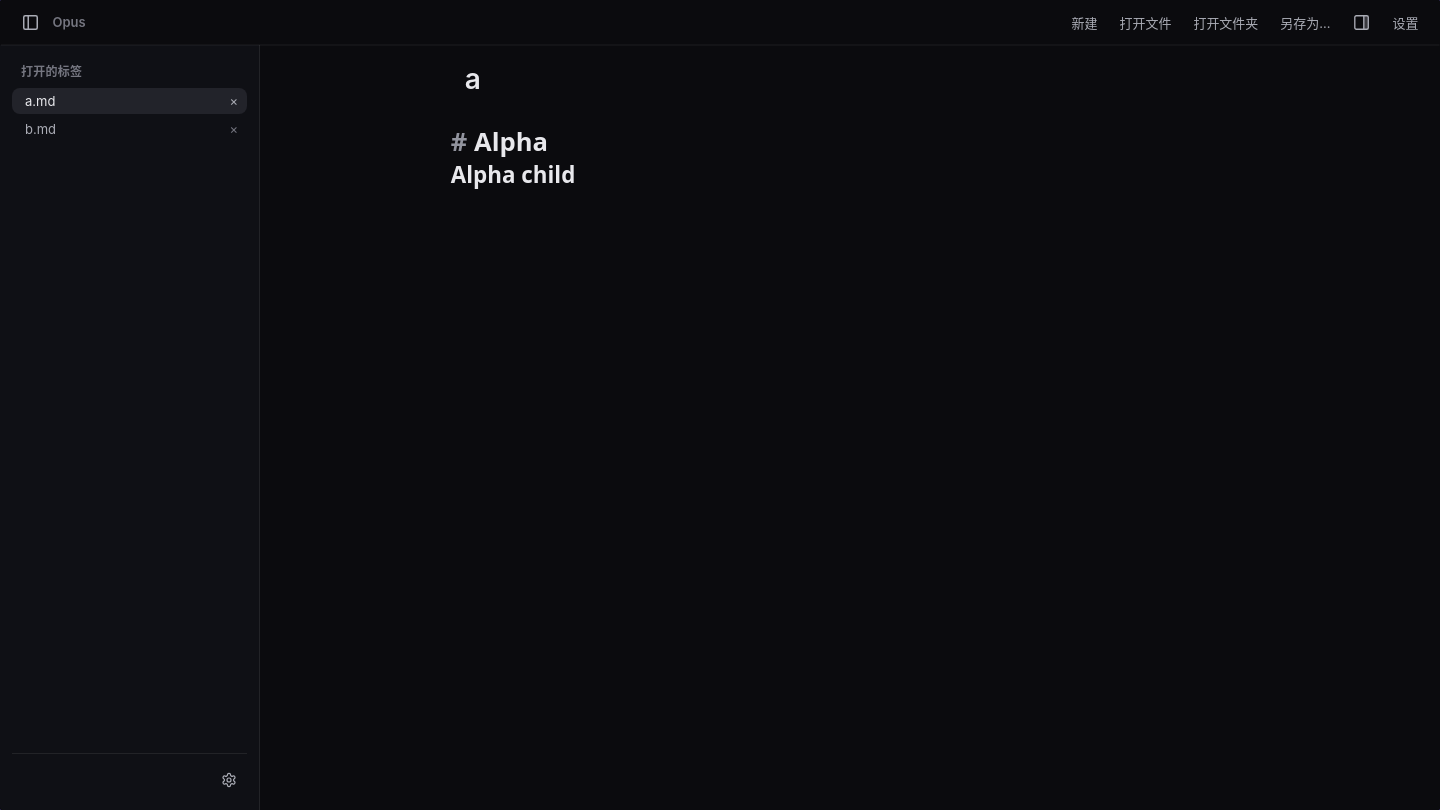
Test: AppShell › keeps the outline open and branch state independent across tabs
This screenshot has width=1440, height=810.
Click the button named "展开右侧栏": (1362, 22) [1344,4,1380,40]
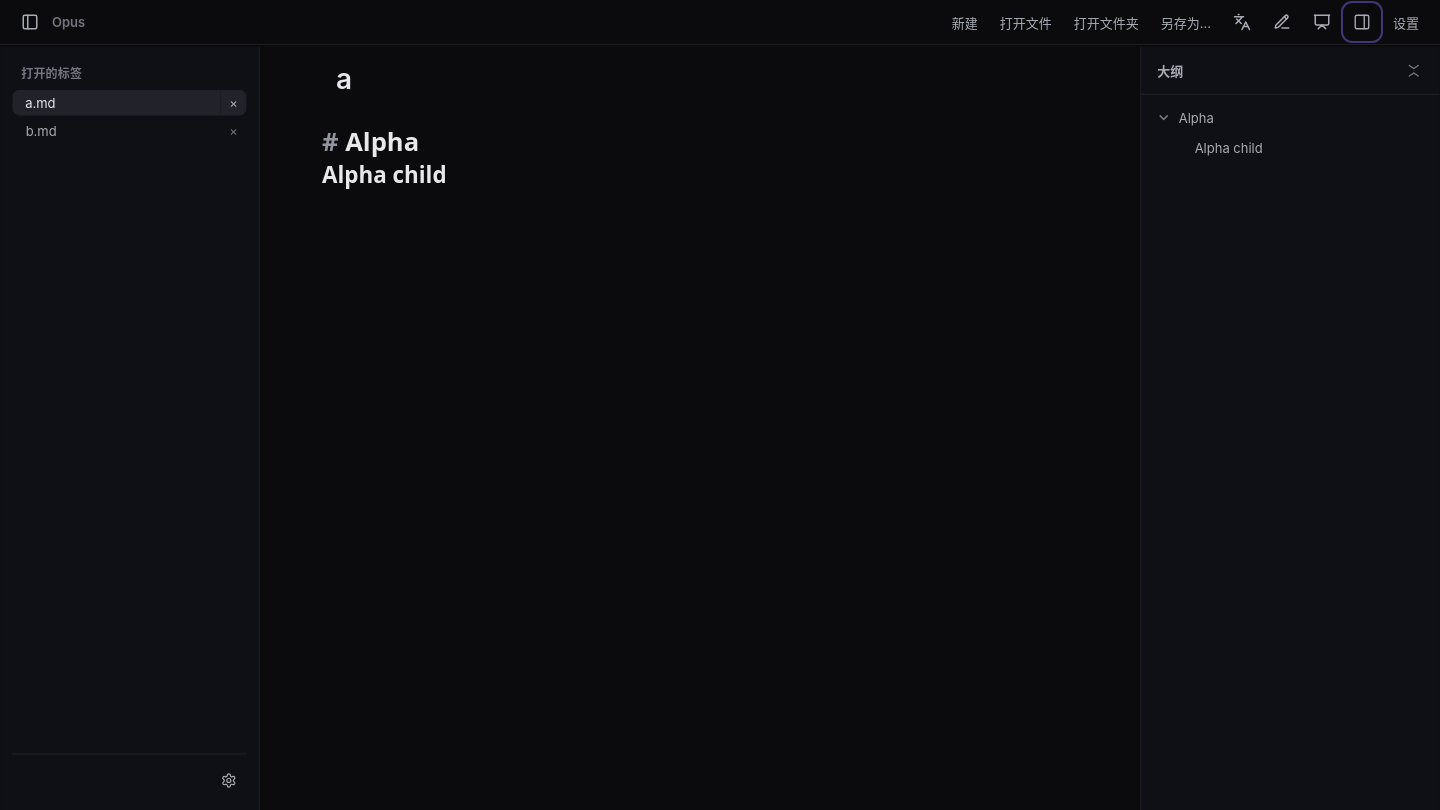
Result: the list item "Alpha child" is shown at [1194,133,1432,162]
Click the button named "收起 Alpha": (1164, 118) [1150,103,1178,133]
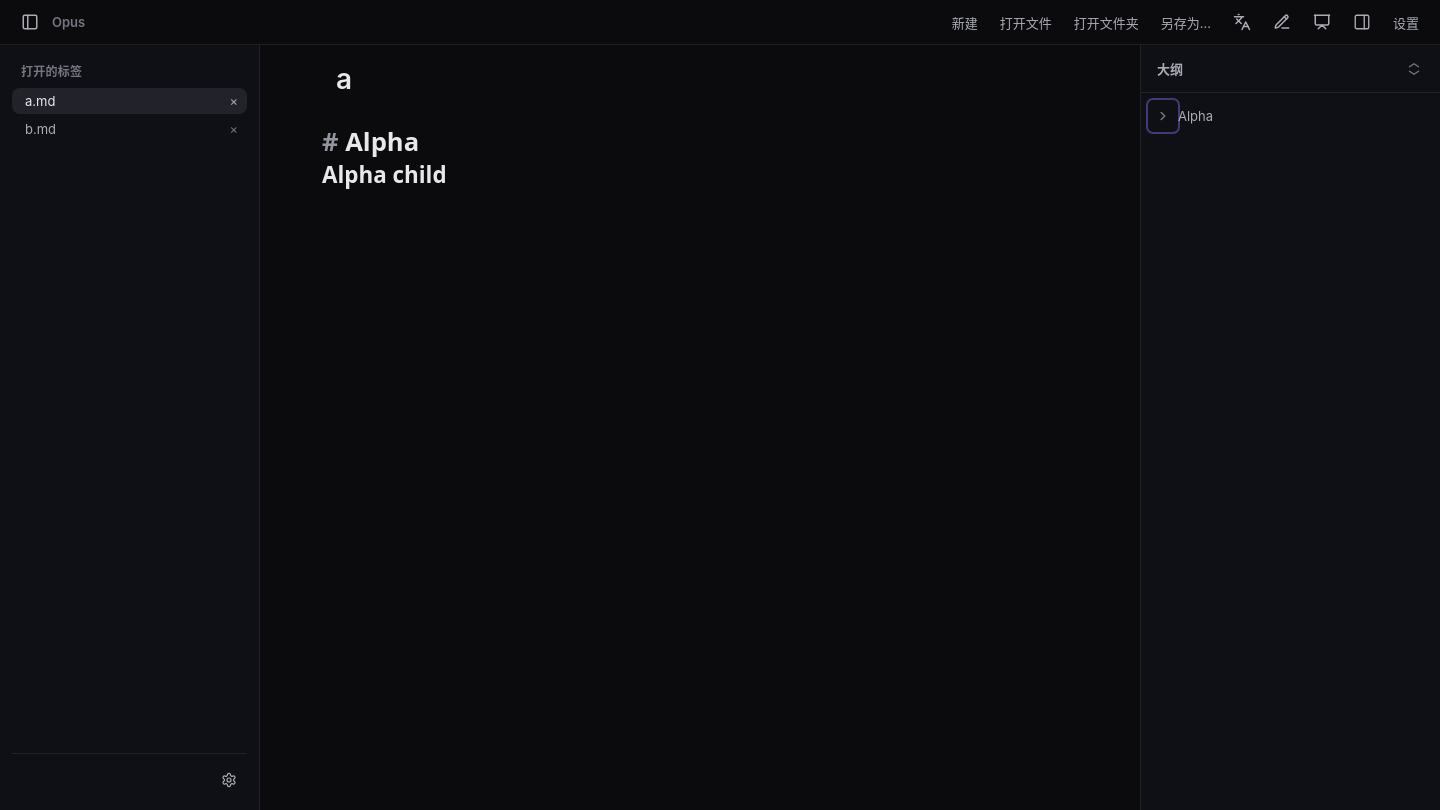
Click the tab "b.md": (117, 129) [12,116,221,142]
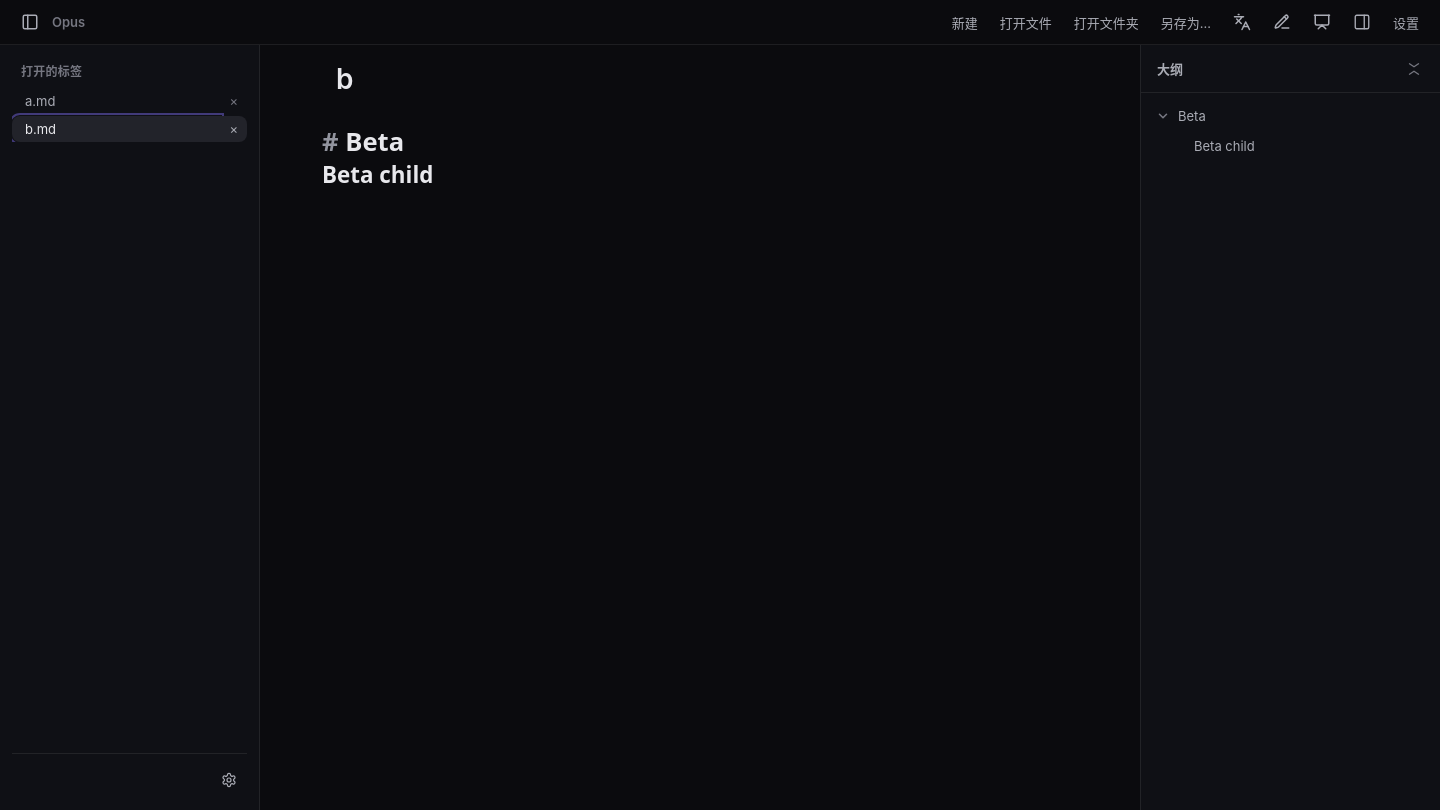
Result: the button named "收起右侧栏" is expanded at [1344,4,1380,40]
Result: the list item "Beta child" is shown at [1193,131,1432,161]
Click the tab "a.md": (117, 101) [12,88,221,114]
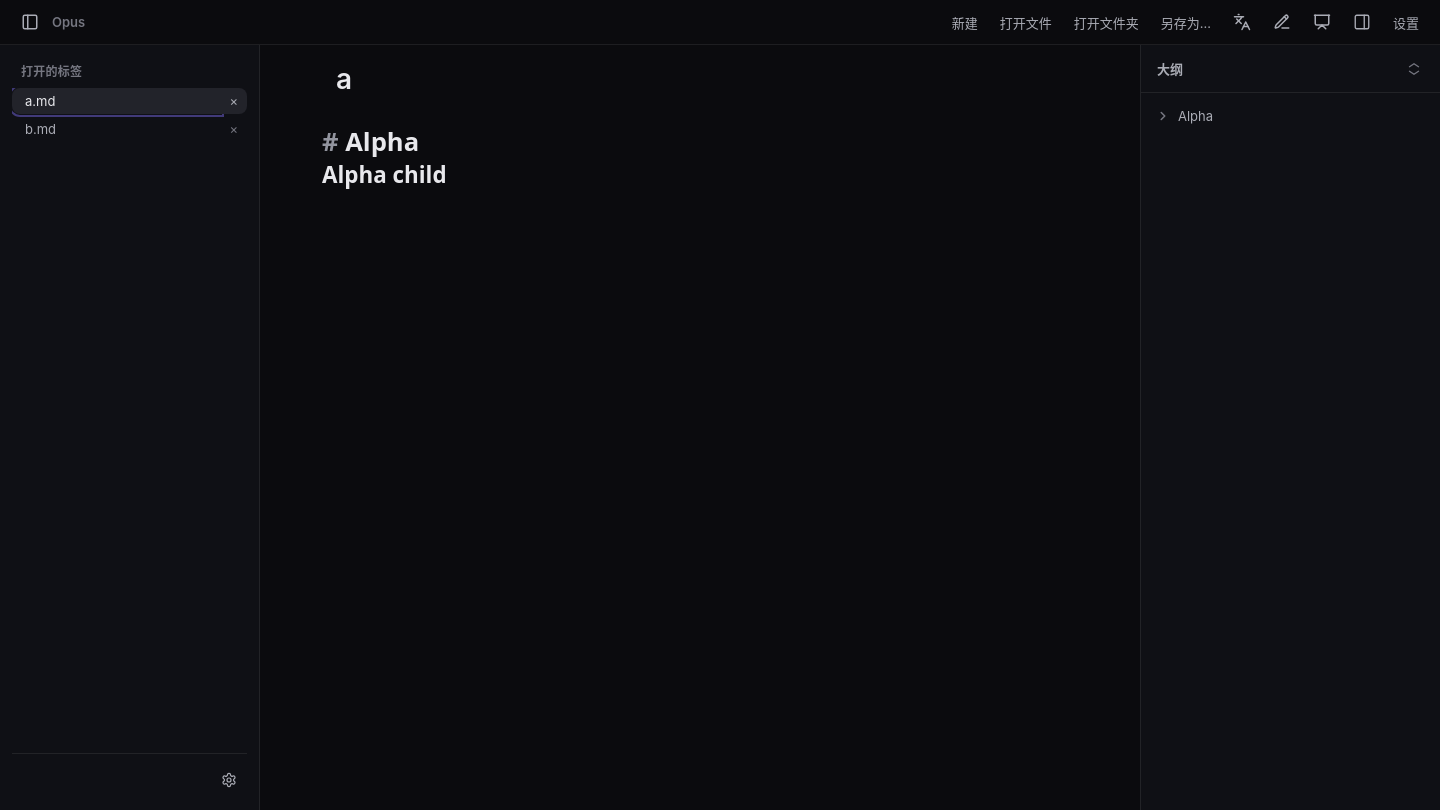
Result: the list item "Alpha" is shown at [1177,101,1432,131]
